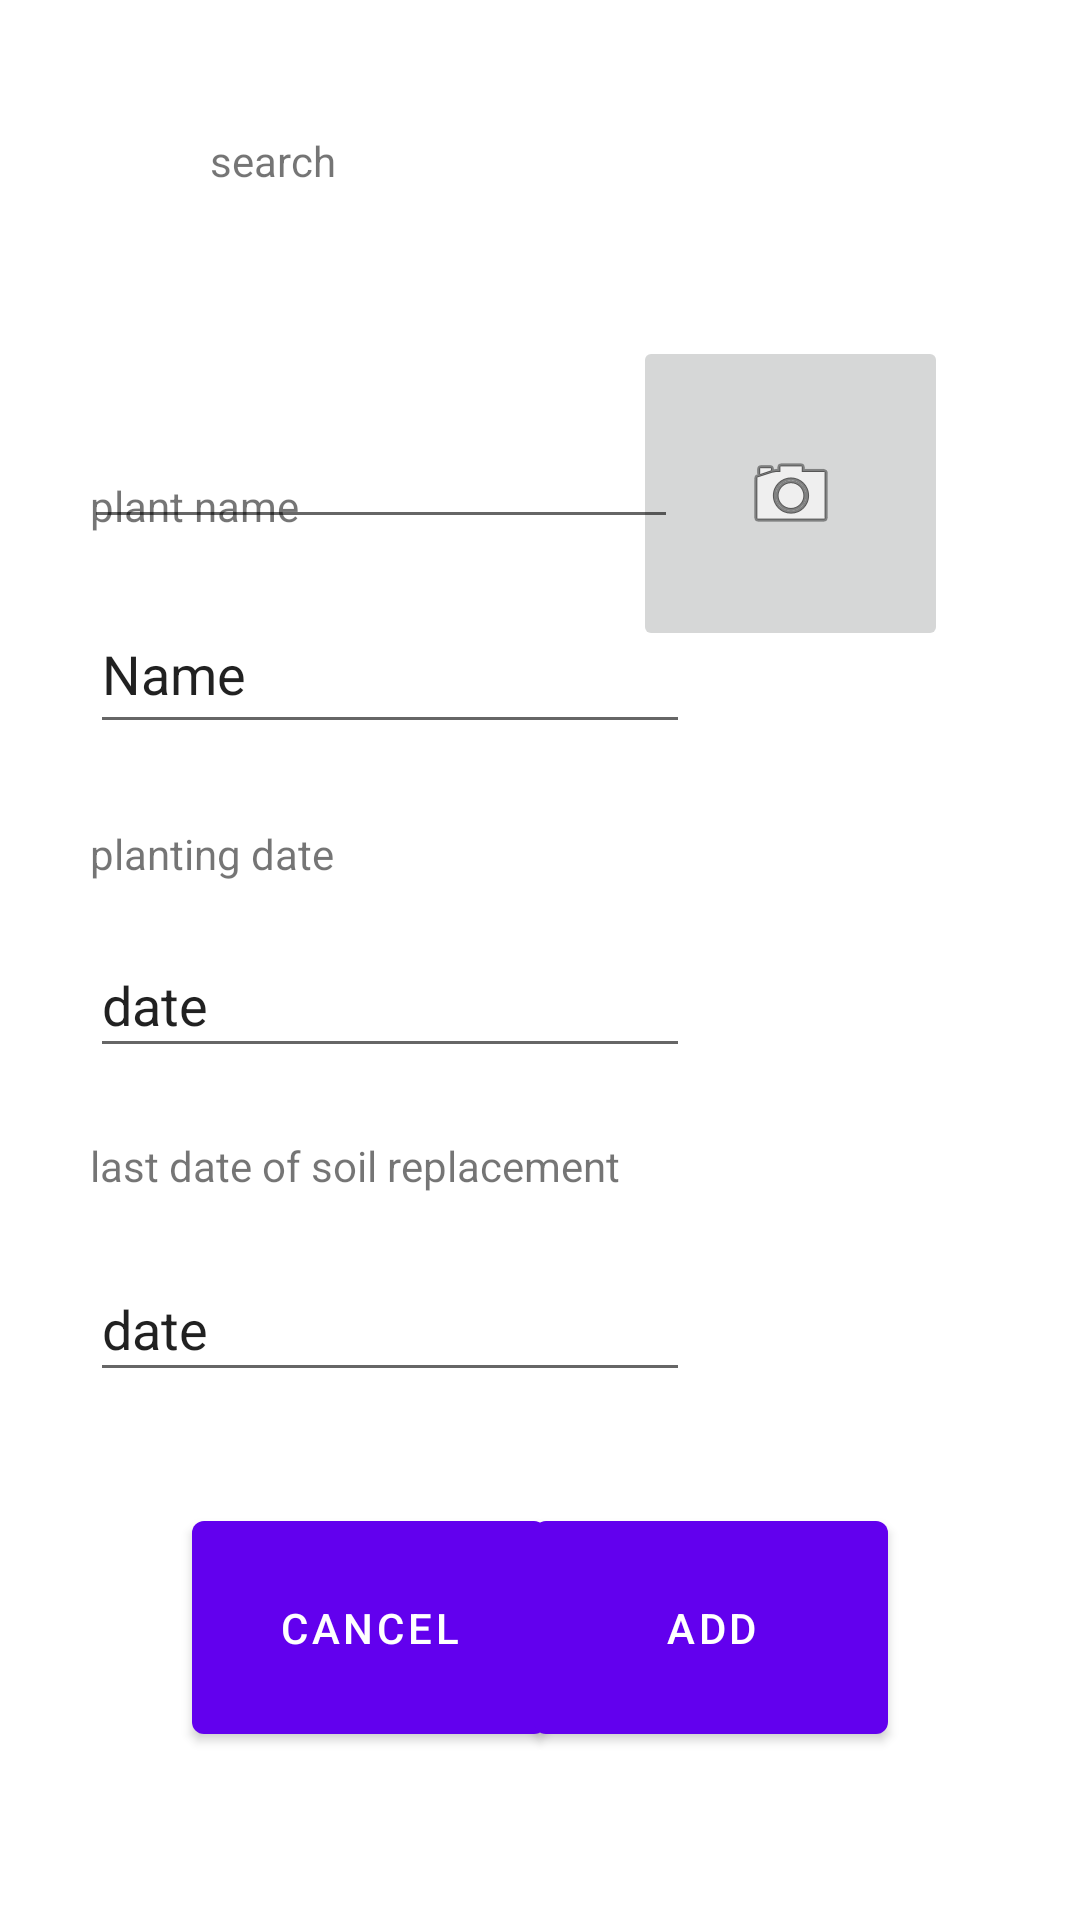

Where icons sit on this 1080*1920 app screen, as BBox(x1, y1, x2, y2):
camera: BBox(633, 354, 936, 633)
